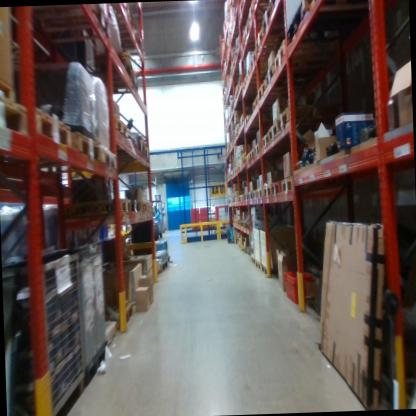pallet: (233, 3, 296, 101), (26, 4, 120, 55), (285, 6, 362, 52), (82, 48, 148, 96), (274, 35, 348, 77), (28, 104, 74, 162), (275, 96, 335, 139), (52, 193, 132, 224), (67, 117, 104, 175), (264, 60, 334, 89), (0, 91, 28, 138), (254, 24, 296, 55), (298, 0, 374, 17), (257, 78, 304, 105), (248, 47, 291, 73), (112, 23, 147, 54), (99, 135, 125, 171), (114, 299, 137, 336), (251, 94, 286, 115), (239, 76, 272, 98), (243, 112, 272, 136), (242, 64, 276, 83), (137, 129, 154, 161), (261, 262, 288, 278), (281, 173, 297, 196), (268, 115, 279, 148), (130, 198, 141, 222), (270, 178, 283, 197), (261, 132, 270, 155), (262, 178, 271, 199), (157, 260, 168, 277), (232, 128, 245, 141), (141, 195, 148, 219), (254, 142, 262, 161), (254, 258, 264, 273), (239, 112, 248, 127), (147, 197, 153, 219), (250, 251, 257, 266), (239, 245, 247, 258), (249, 145, 255, 162), (240, 152, 247, 166), (247, 189, 253, 205), (257, 184, 263, 199), (236, 120, 242, 135), (245, 150, 250, 167), (251, 189, 258, 201), (239, 219, 246, 229), (245, 222, 252, 231), (247, 247, 252, 255)
pallet_truck: (227, 205, 238, 245), (224, 204, 231, 245)
small_load_carrier: (284, 268, 316, 304)
stillage: (2, 246, 85, 416)
